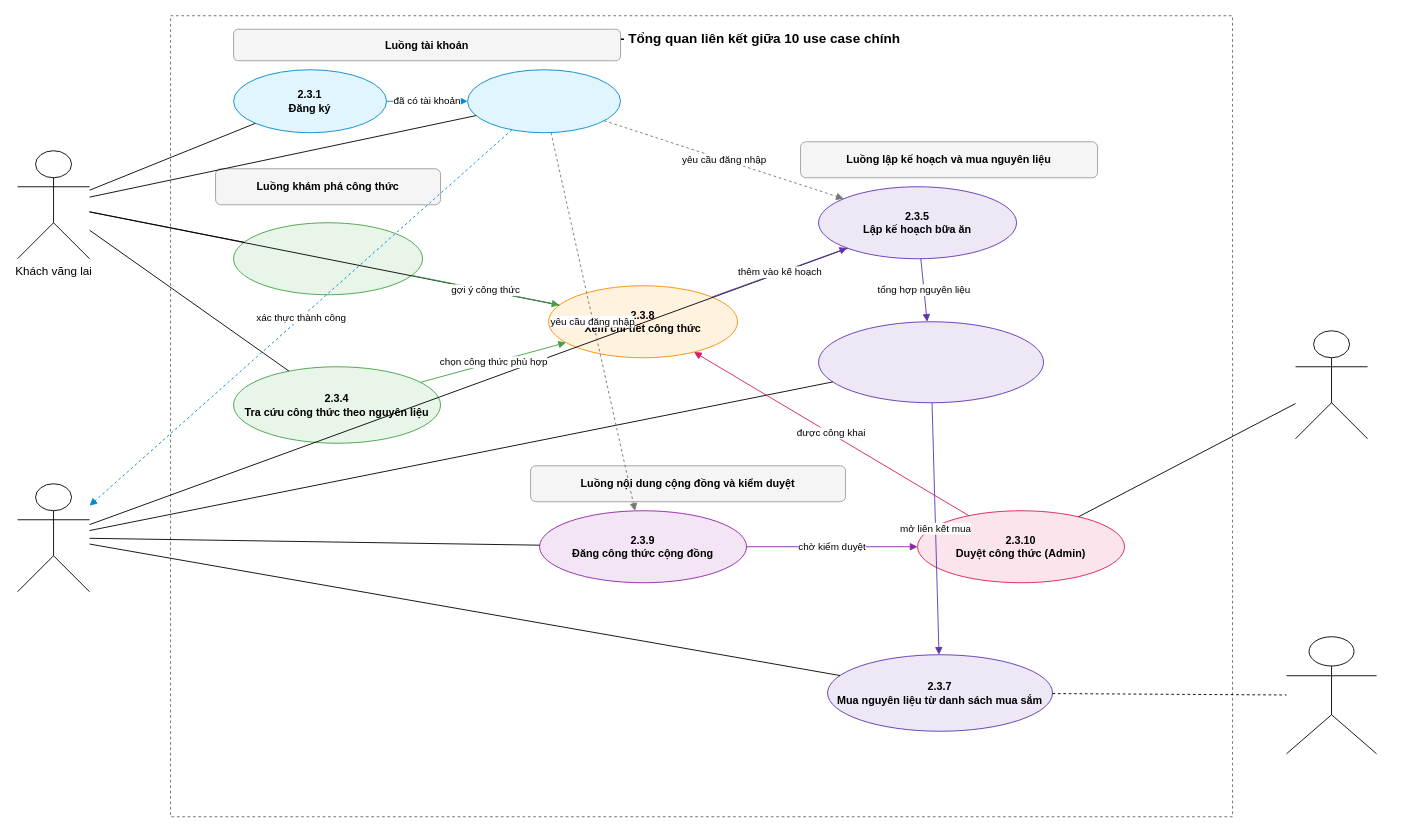
Some shapes in this 1424 by 833 pixel diagram are drawn without their labels. The shapes that lost their labels are listed below. From the top down, each one's centre as x and y in pixels, then its label:
At (x=544, y=101): "2.3.2 Đăng nhập".
At (x=328, y=258): "2.3.3 Nhận diện ảnh món ăn".
At (x=931, y=362): "2.3.6 Tạo danh sách mua sắm từ kế hoạch bữa ăn".
At (x=1331, y=384): "Quản trị viên".
At (x=53, y=537): "Người dùng".
At (x=1331, y=695): "Nền tảng mua sắm bên ngoài".
